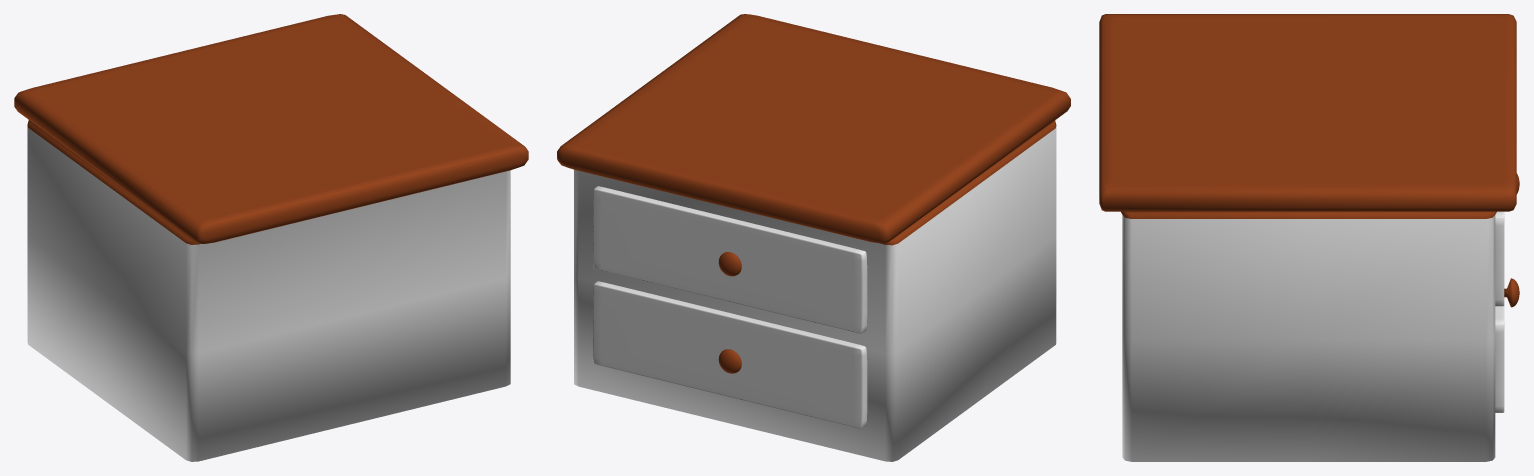
Rendered from resizedwidebench.glb.
3 renders of one model, left to right at view 1: azimuth 30°, elevation 25°; view 2: azimuth 150°, elevation 25°; view 3: azimuth 270°, elevation 25°, orthographic. The views are drawn at different scales.
Parts seen in each view (by area): view 1: Cube.004; view 2: Cube.004; view 3: Cube.004.
Part boxes in pixels (x1,y1,x2,y2): Cube.004: [14, 14, 528, 461]; Cube.004: [557, 14, 1070, 461]; Cube.004: [1099, 14, 1519, 461].
Size of the model in its own units: 3.07 by 2.16 by 3.01.
